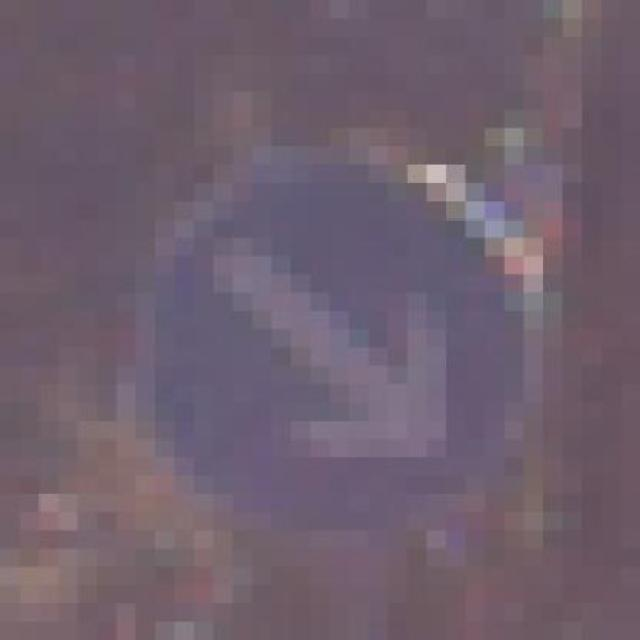Keep-Right: (97, 128, 563, 549)
